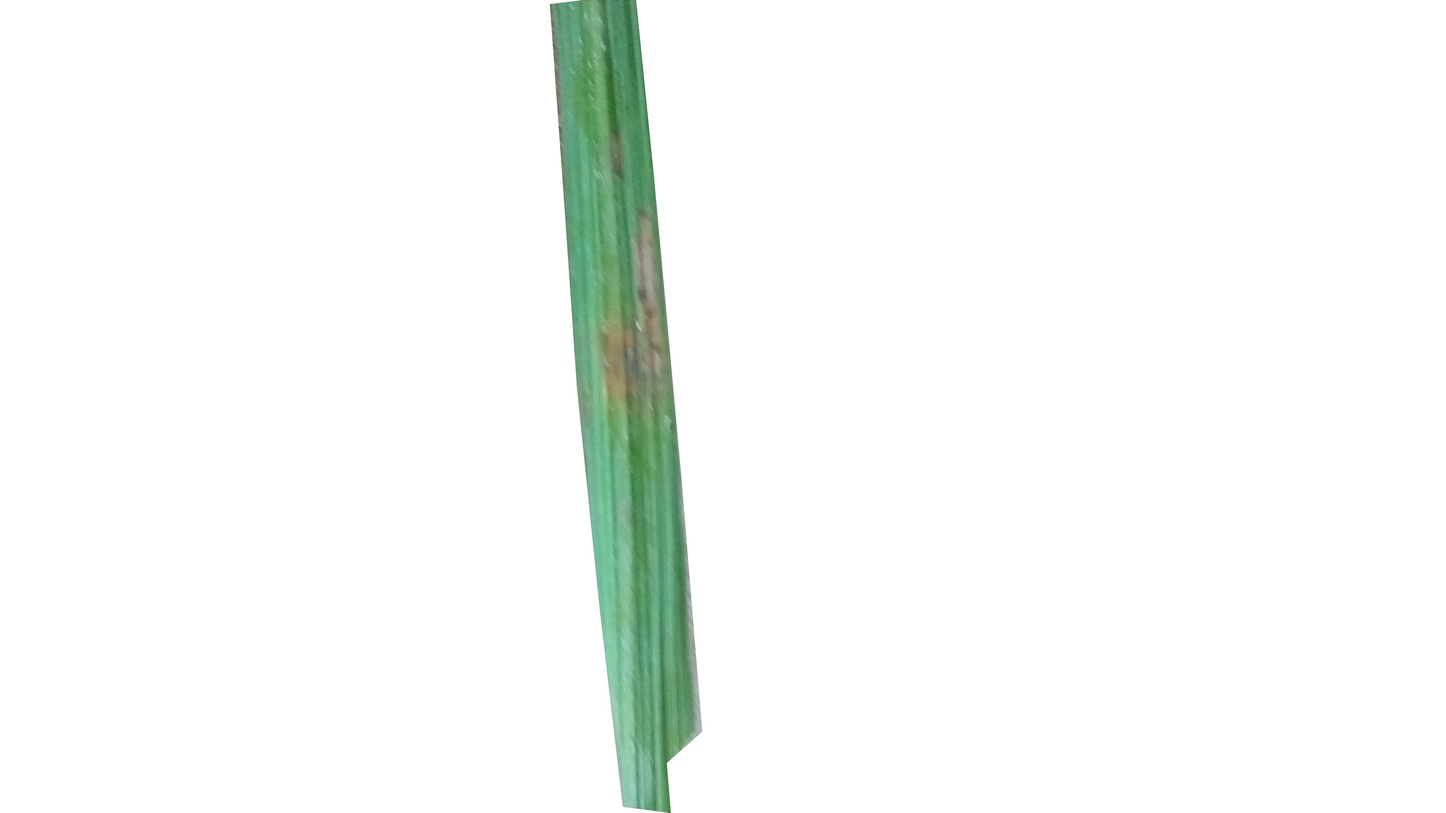Rice blast: (606, 125, 636, 187)
